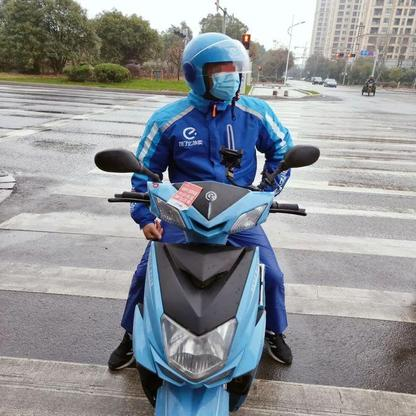target: (93, 30, 321, 406)
